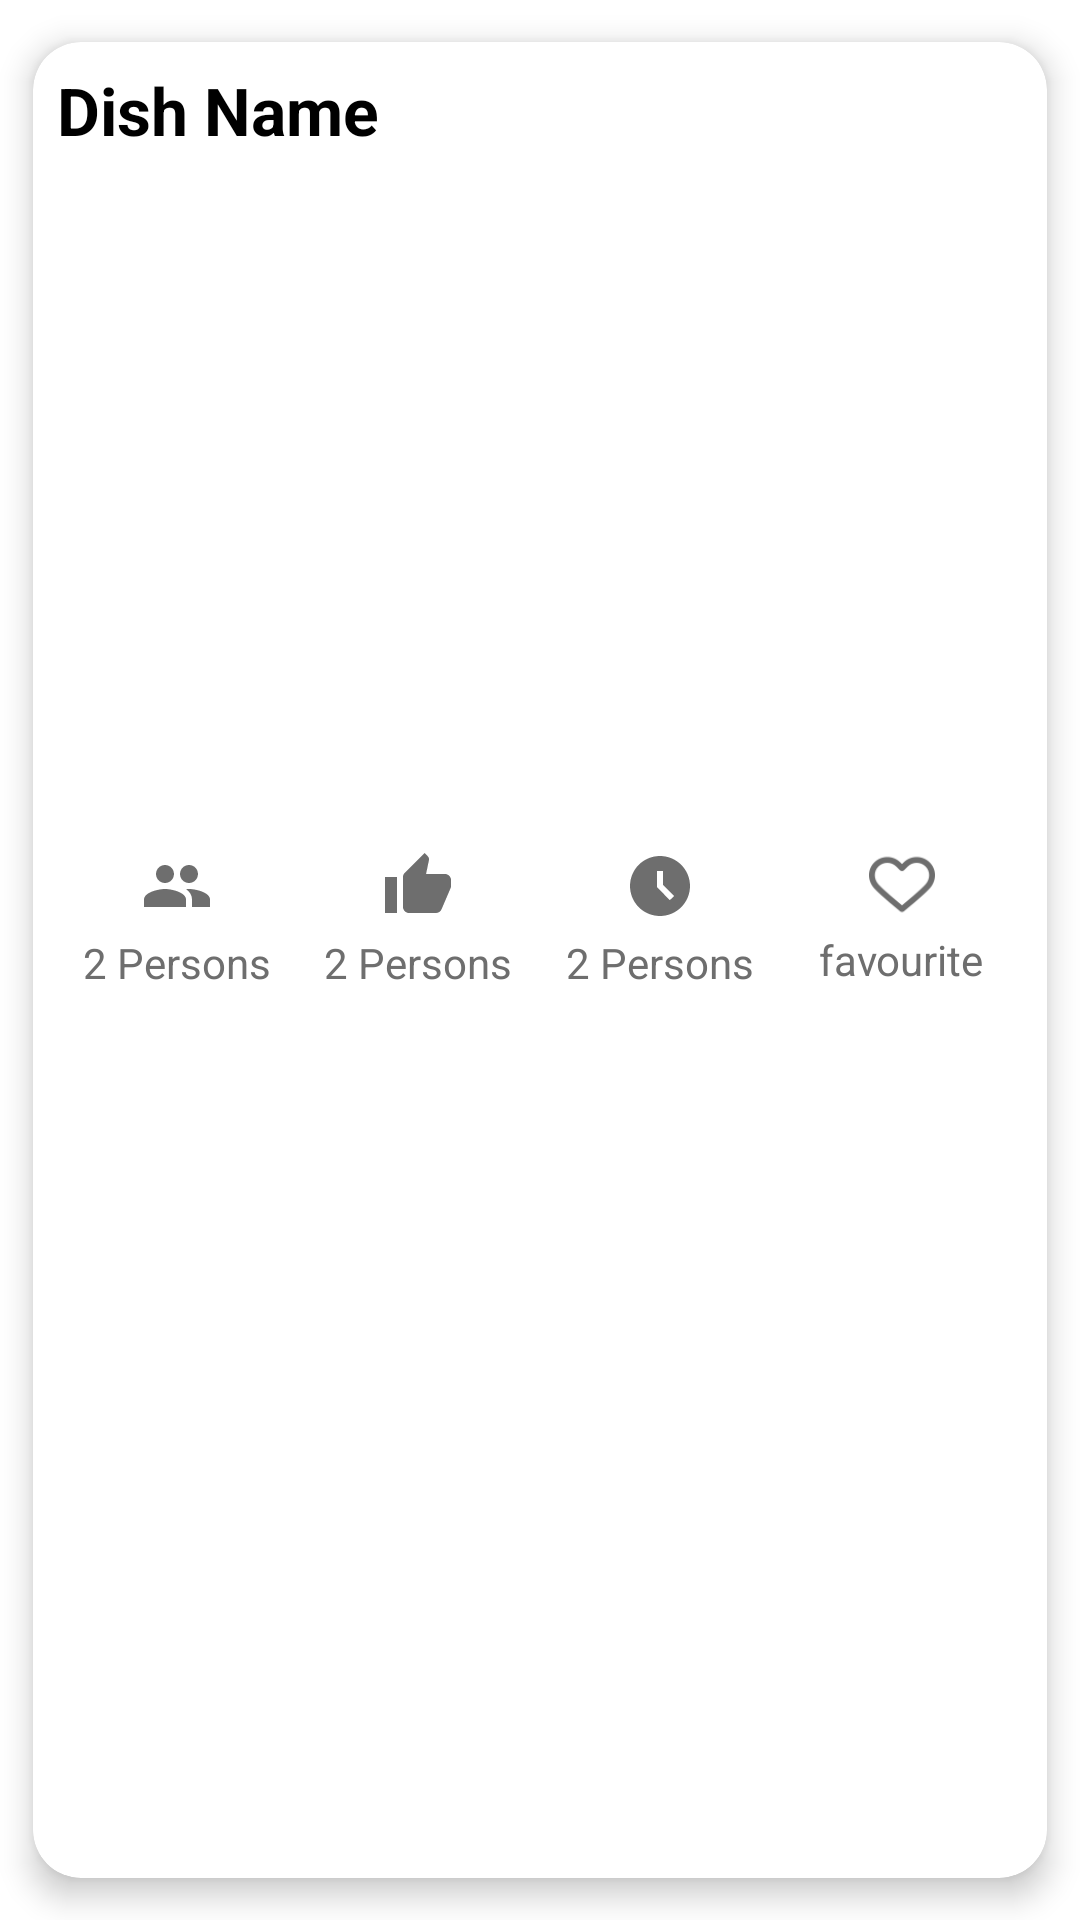

Icons on this 1080×1920 Android screen, each with its box as (x1, y1, x2, y2):
heart: (869, 856, 935, 913)
like: (385, 853, 451, 913)
time: (630, 856, 690, 916)
